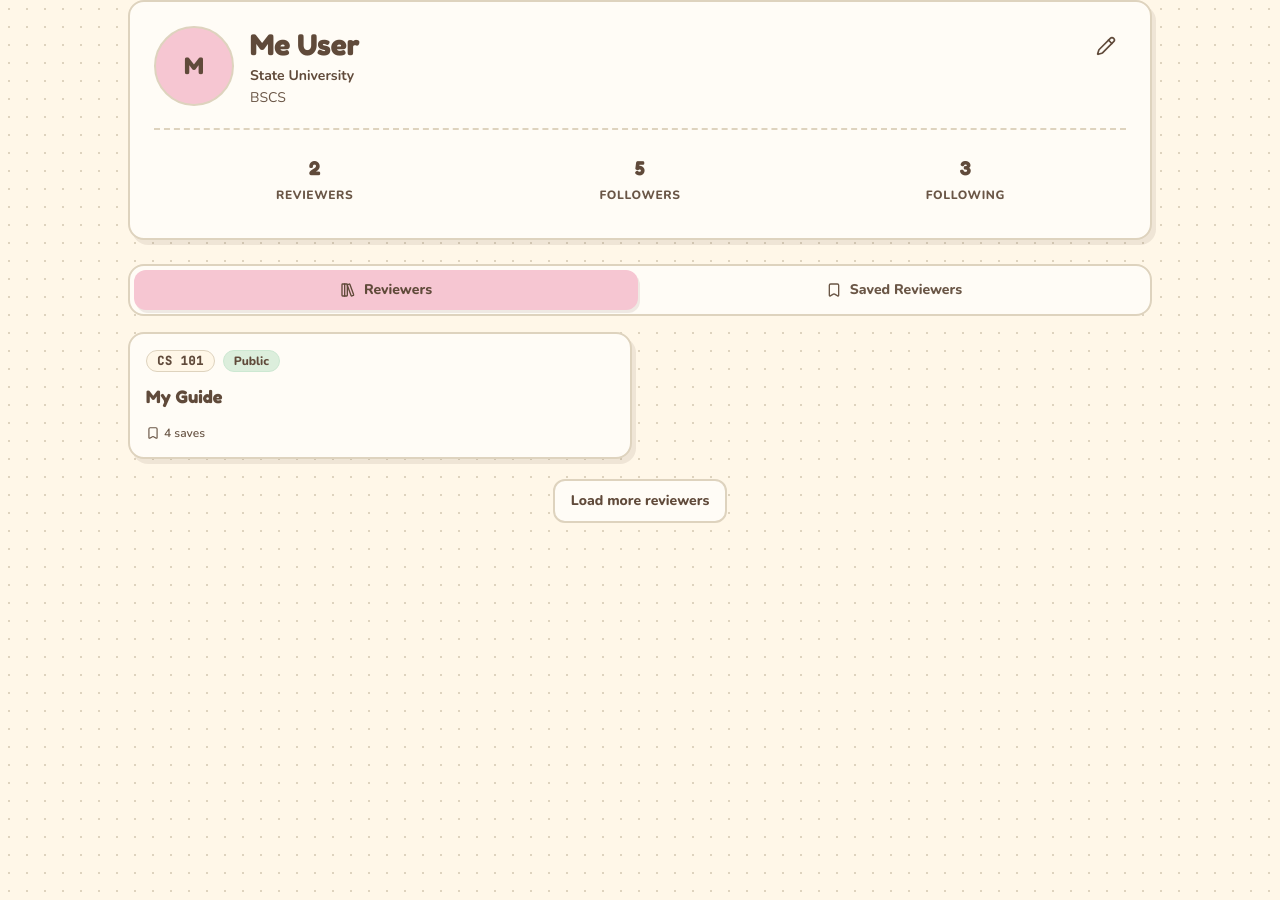
Profile › loads more reviewers and does not duplicate cards
The width and height of the screenshot is (1280, 900).
expect the text "My Guide" is shown: met, box [146,385,222,407]
Click the button "Load more reviewers": (640, 501) [553,479,727,523]
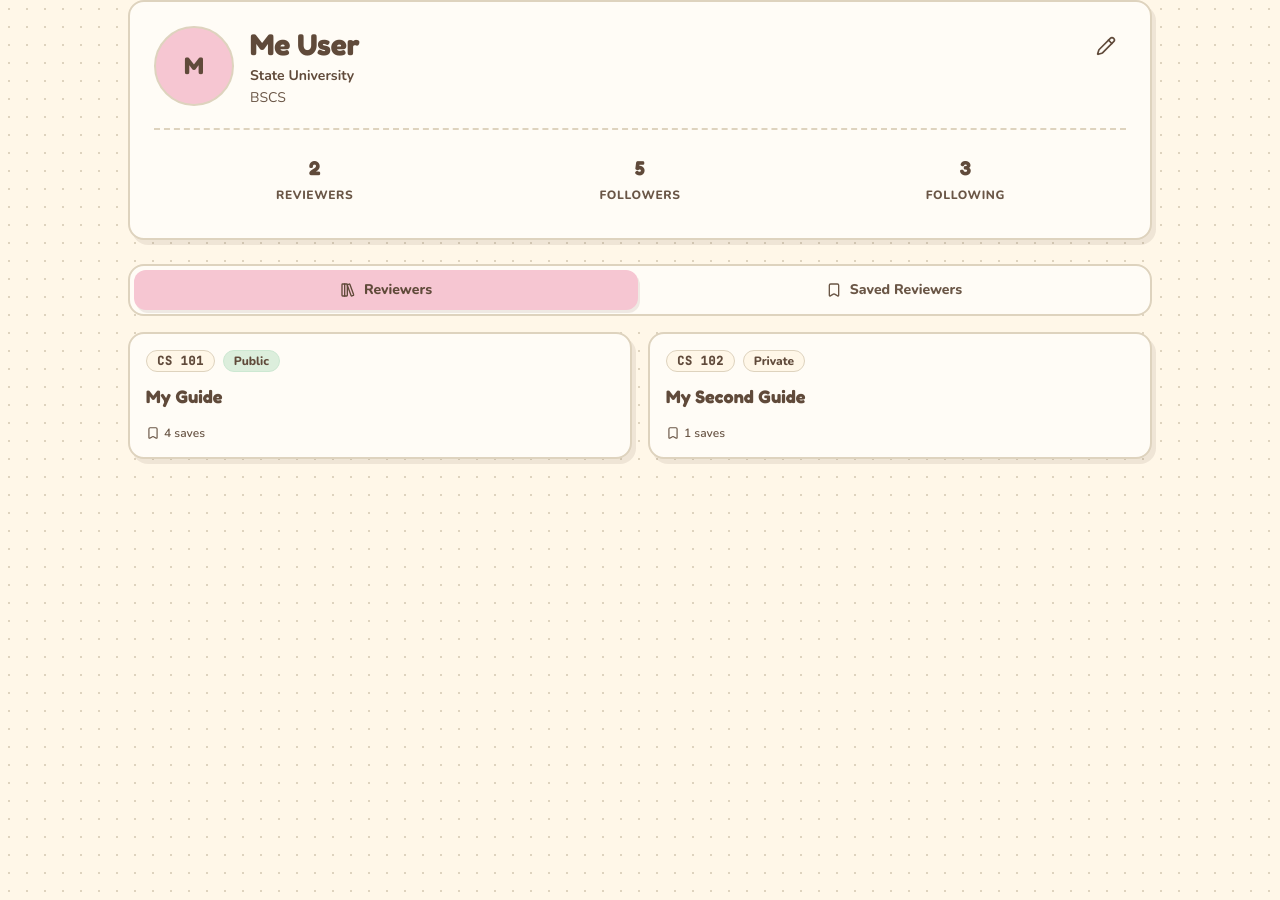
expect the text "My Guide" is shown once: met, box [146,385,222,407]
expect the text "My Second Guide" is shown: met, box [666,385,805,407]
expect the button "Load more reviewers" is gone: met
